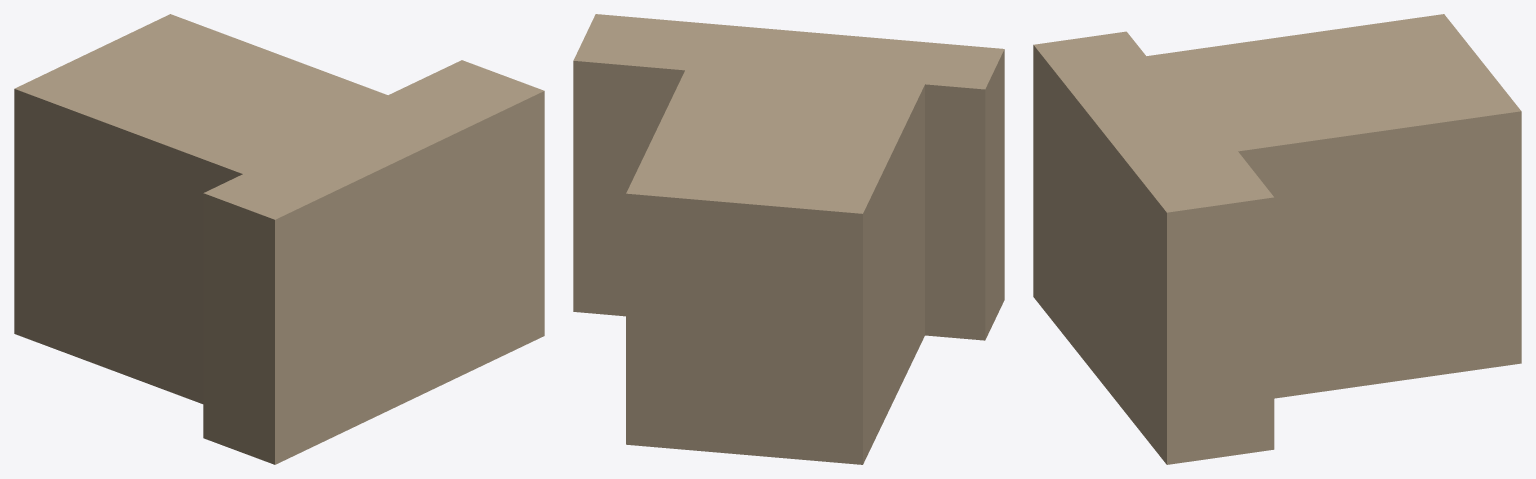
Rendered from bld_106339075.dae.
3 views of the same model, side by side, from view 1: azimuth 30°, elevation 25°; view 2: azimuth 150°, elevation 25°; view 3: azimuth 270°, elevation 25° (orthographic). The views are drawn at different scales.
Parts seen in each view (by area): view 1: bld_106339075; view 2: bld_106339075; view 3: bld_106339075.
Part boxes in pixels (x1,y1,x2,y2): bld_106339075: [14, 14, 544, 464]; bld_106339075: [573, 14, 1004, 464]; bld_106339075: [1033, 14, 1521, 464].
Bounding box in the file's own units: 13.51 × 14.03 × 8.
